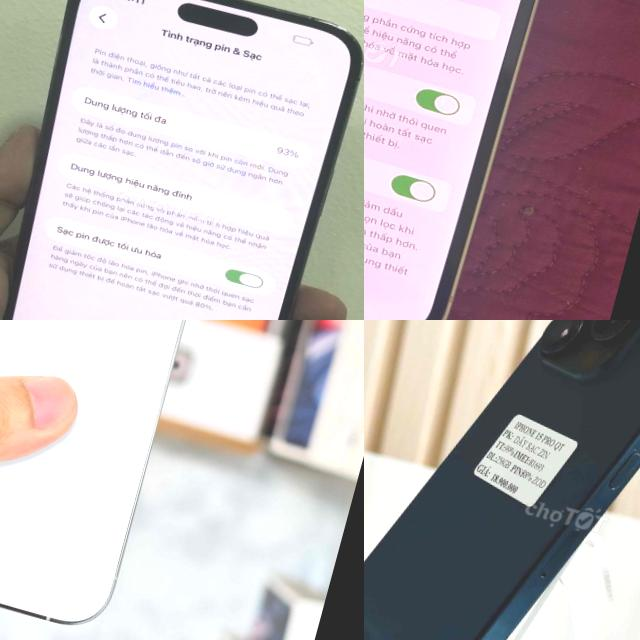scratch: (608, 367, 640, 492)
